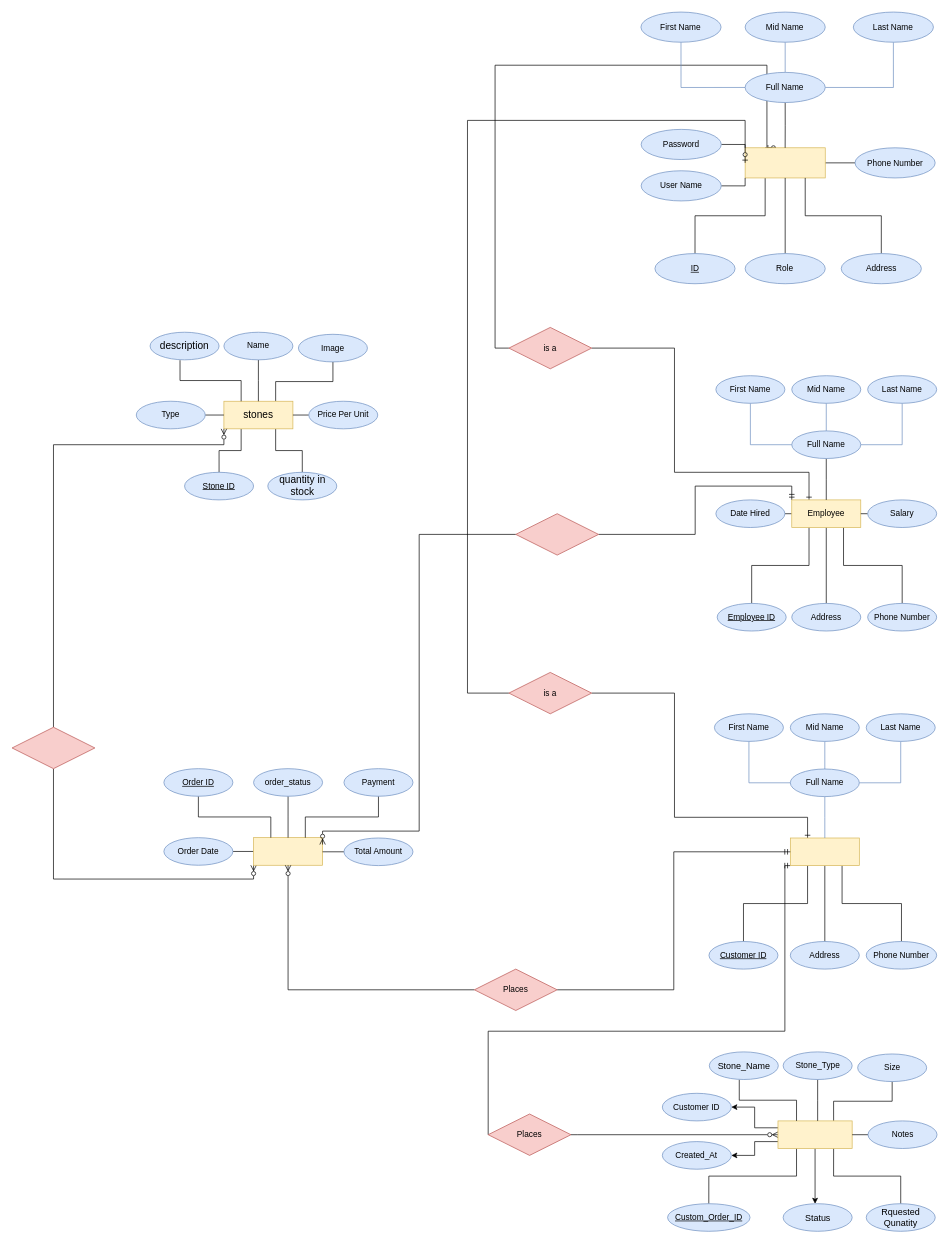
The diagram is 949 pixels wide and 1243 high, and some of its shapes have lost their labels. Each missing label, with the centre of its shape:
Contians: the point at 53,748
Custom_Orders: the point at 814,1134
Customer: the point at 824,851
handles: the point at 557,534
Order: the point at 288,851
User: the point at 784,162
